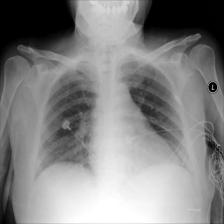normal: (32, 49, 196, 183)
